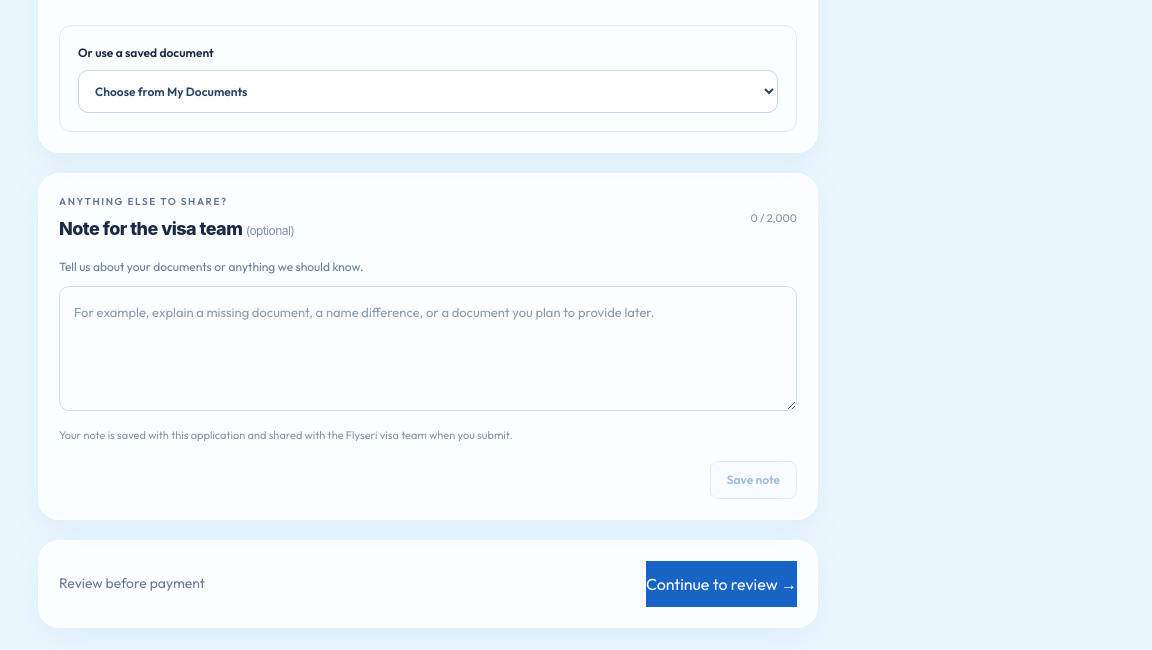
Test case: visa document categories › opens saved applicant details when the document vault fails and can retry
(page scrolled)
Click the button "Continue to review →": (721, 584) top-left (646, 561), bottom-right (797, 607)
(page scrolled)
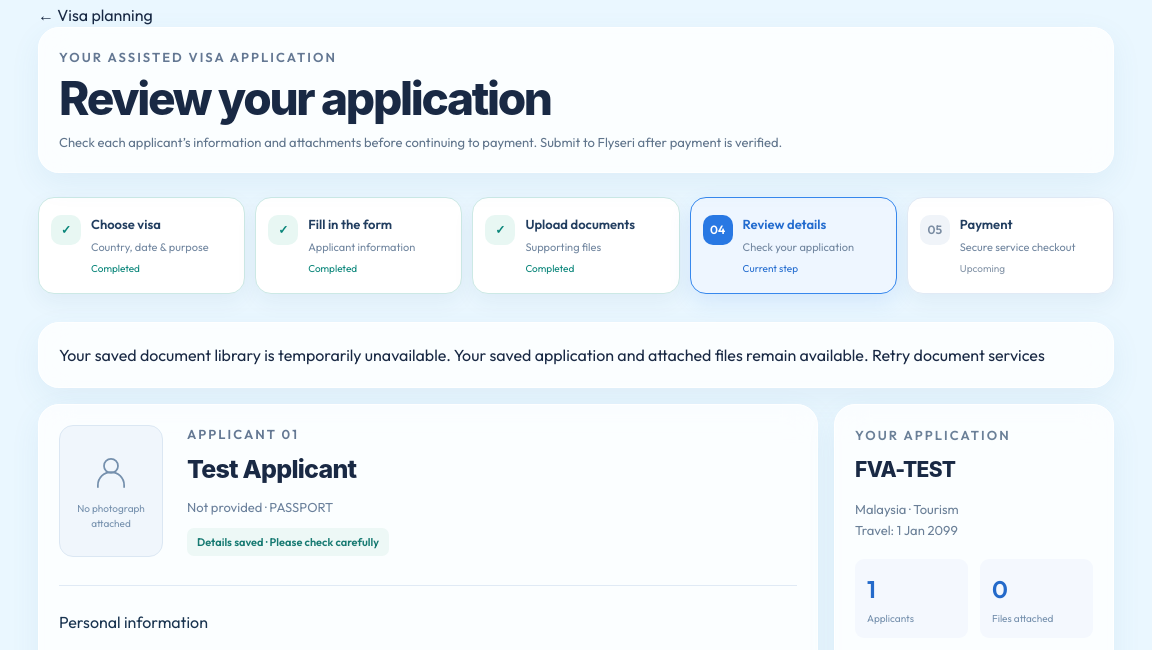
Check: the heading "Personal information" is shown, box top-left (59, 612), bottom-right (208, 632)
Click the button "Retry document services": (958, 355) top-left (872, 343), bottom-right (1045, 367)
(page scrolled)
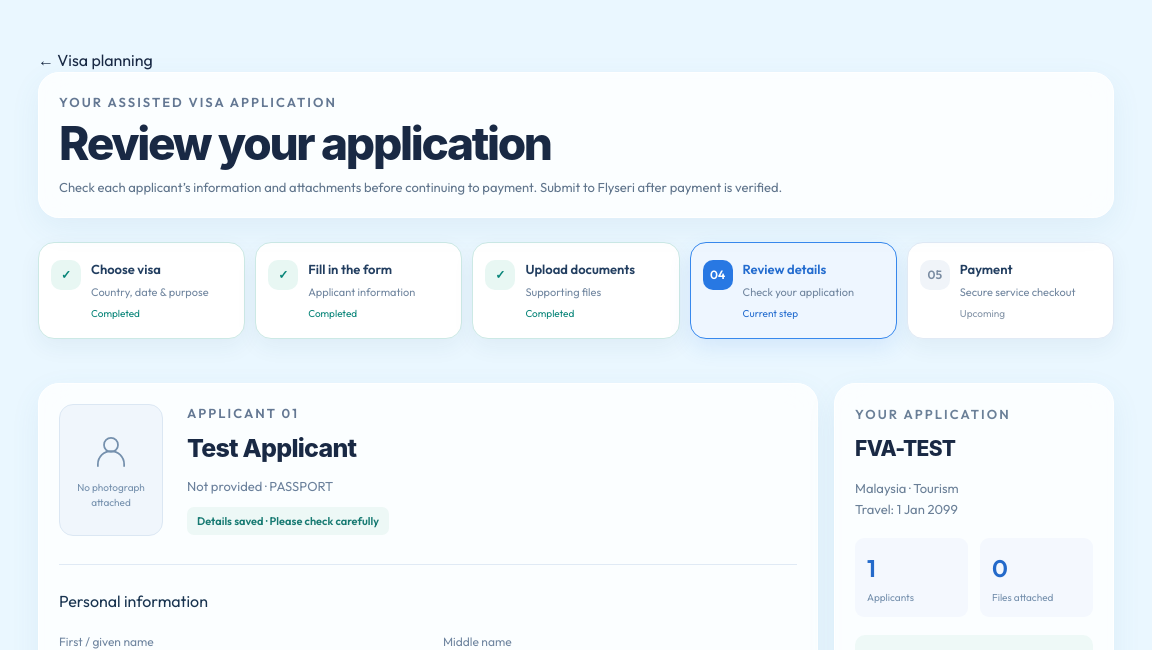
Check: the message is gone
